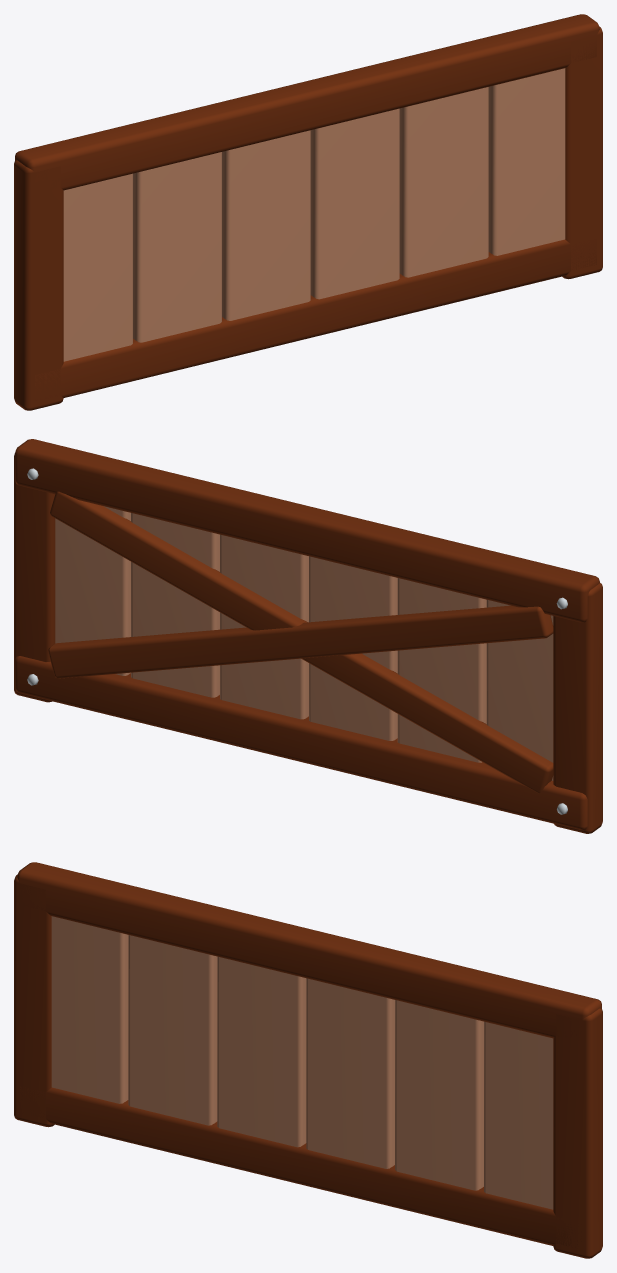
File: gate_leaf.obj
3 views of the same model, one above another, from view 1: azimuth 30°, elevation 25°; view 2: azimuth 150°, elevation 25°; view 3: azimuth 330°, elevation 25° (orthographic).
Visible parts, largest first — view 1: gate_leaf; view 2: gate_leaf; view 3: gate_leaf.
Boxes of the visible parts, x1=… form: gate_leaf: x1=14, y1=14, x2=602, y2=410; gate_leaf: x1=14, y1=439, x2=602, y2=833; gate_leaf: x1=14, y1=862, x2=602, y2=1258.
Bounding box in the file's own units: 2.9 × 1.2 × 0.17.
